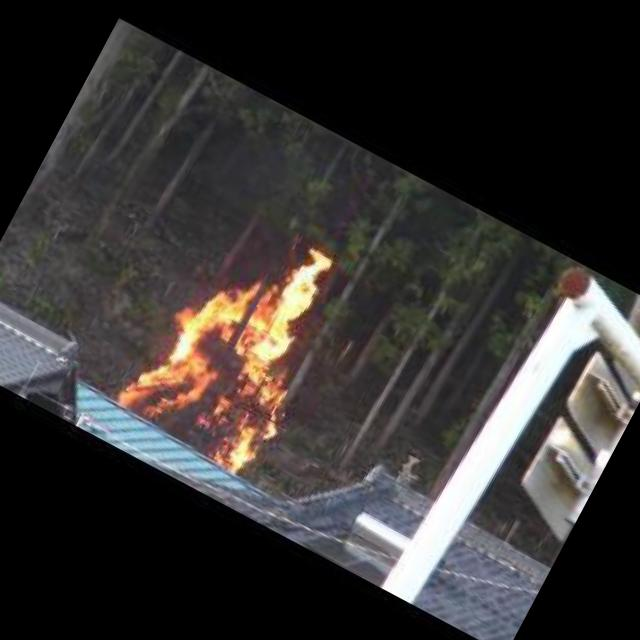fire: (112, 198, 360, 482)
